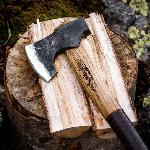Kapak: (24, 12, 148, 150)
